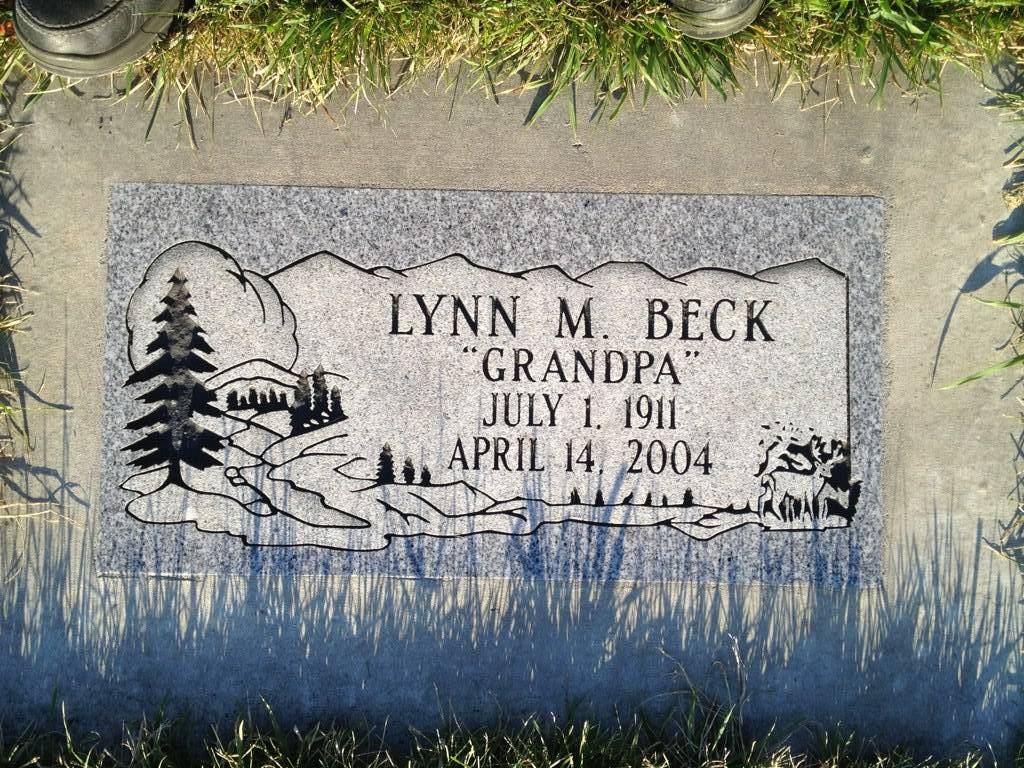flat: (6, 51, 1011, 651)
